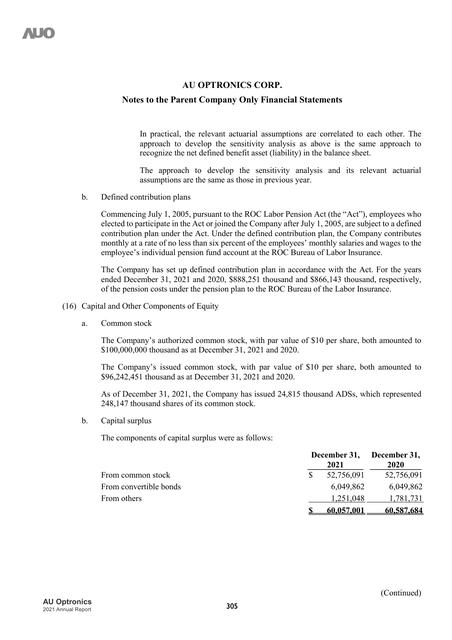box: (99, 447, 426, 519)
